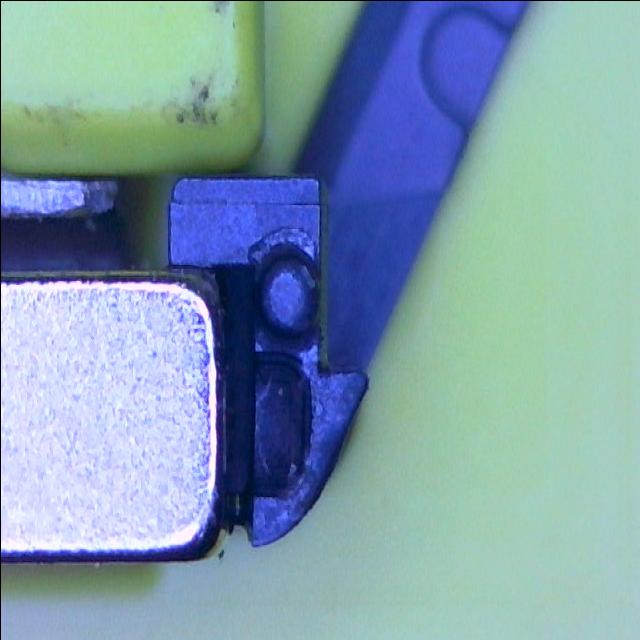over: (245, 348, 313, 502)
